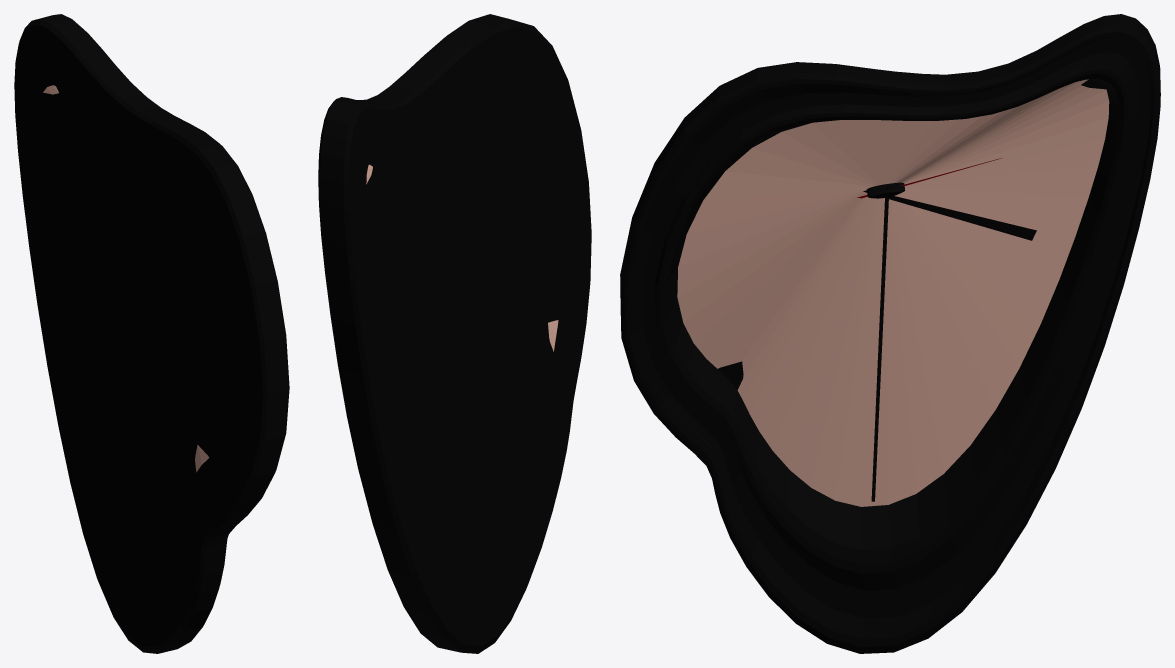
Rendered from melting clock1.fbx.
3 renders of one model, left to right at view 1: azimuth 30°, elevation 25°; view 2: azimuth 150°, elevation 25°; view 3: azimuth 270°, elevation 25°, orthographic. The views are drawn at different scales.
Visible parts, largest first — view 1: Cylinder; view 2: Cylinder; view 3: Cylinder.
Part boxes in pixels (x1,y1,x2,y2): Cylinder: (14, 14, 289, 653); Cylinder: (318, 14, 591, 653); Cylinder: (620, 14, 1160, 653).
Size of the model in its own units: 50.24 by 425 by 328.
